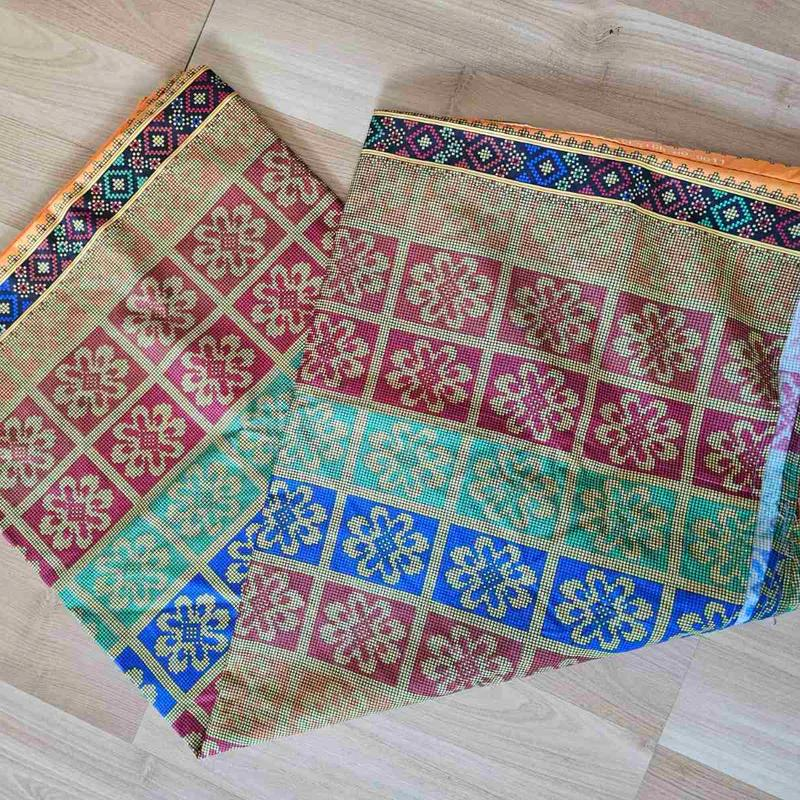malong: (0, 35, 800, 767)
